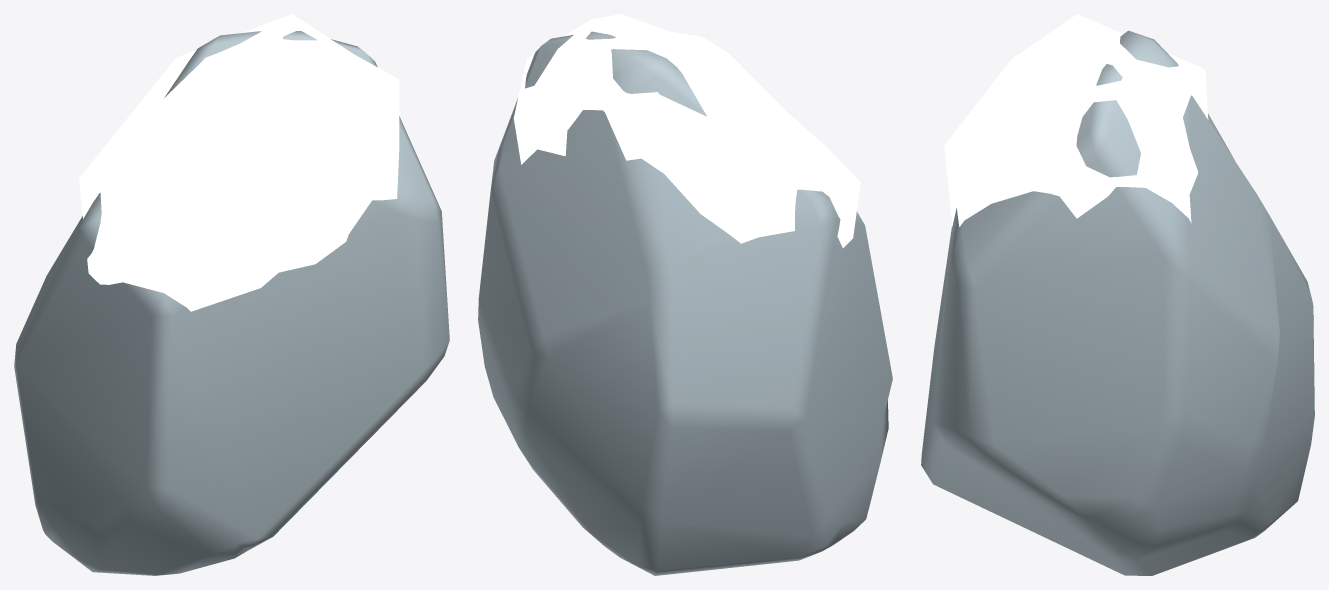
File: stone_002_001.glb
3 renders of one model, left to right at view 1: azimuth 30°, elevation 25°; view 2: azimuth 150°, elevation 25°; view 3: azimuth 270°, elevation 25°, orthographic. The views are drawn at different scales.
Parts seen in each view (by area): view 1: stone_002.001; view 2: stone_002.001; view 3: stone_002.001.
Part boxes in pixels (<box>): stone_002.001: <box>14,14,449,575</box>; stone_002.001: <box>478,14,892,575</box>; stone_002.001: <box>921,14,1314,575</box>.
Bounding box in the file's own units: 2.36 × 3.05 × 2.06.
Materials: 2 (2 with a texture image).
